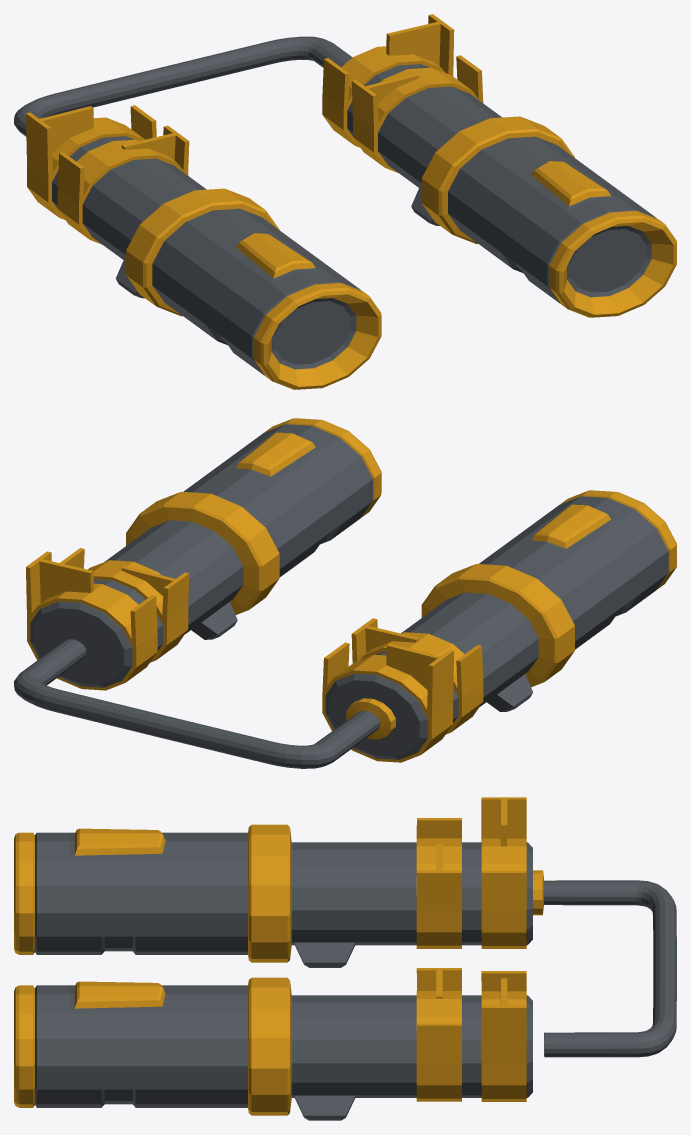
File: Personal_Vehicle_04_Engine_Yellow.fbx
3 views of the same model, one above another, from view 1: azimuth 30°, elevation 25°; view 2: azimuth 150°, elevation 25°; view 3: azimuth 270°, elevation 25° (orthographic). The views are drawn at different scales.
Parts seen in each view (by area): view 1: Personal_Vehicle_04_Engine_Yellow; view 2: Personal_Vehicle_04_Engine_Yellow; view 3: Personal_Vehicle_04_Engine_Yellow.
Part boxes in pixels (left/top/right/bottom): Personal_Vehicle_04_Engine_Yellow: left=14, top=14, right=676, bottom=389; Personal_Vehicle_04_Engine_Yellow: left=14, top=418, right=676, bottom=768; Personal_Vehicle_04_Engine_Yellow: left=14, top=797, right=676, bottom=1120.
Size of the model in its own units: 204 by 54.3 by 256.
2 materials, 2 textured.
